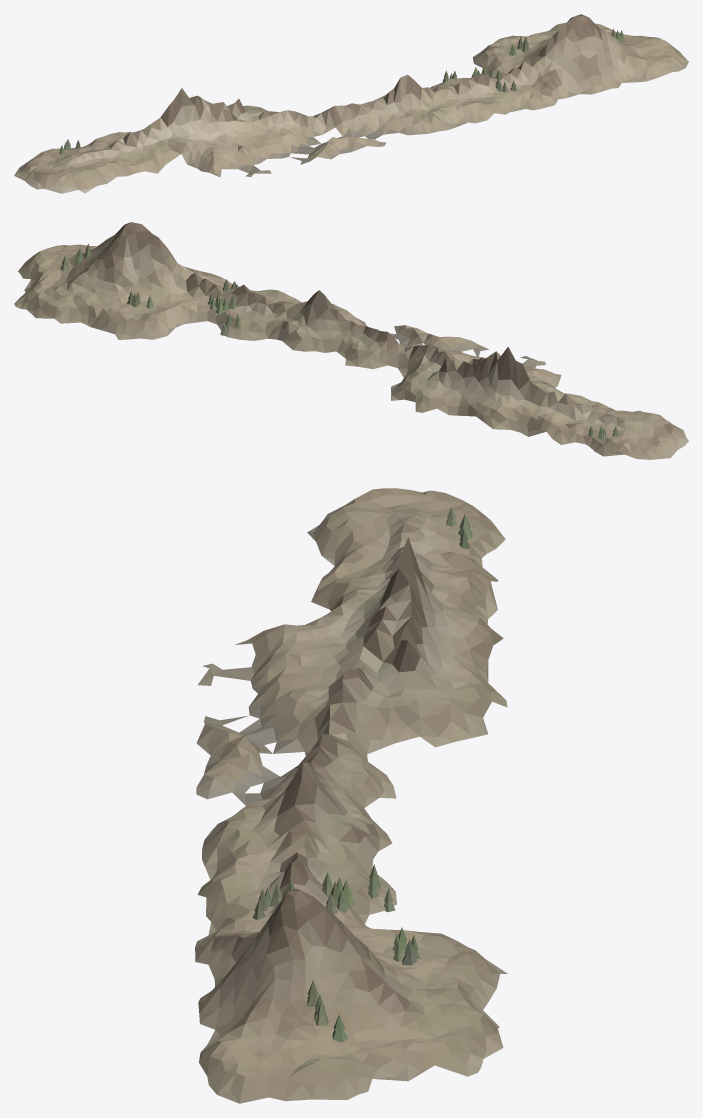
The model's file is range_yinshan.glb.
3 views of the same model, one above another, from view 1: azimuth 30°, elevation 25°; view 2: azimuth 150°, elevation 25°; view 3: azimuth 270°, elevation 25° (orthographic). The views are drawn at different scales.
Visible parts, largest first — view 1: range_yinshan, trees_yinshan; view 2: range_yinshan, trees_yinshan; view 3: range_yinshan, trees_yinshan.
Boxes of the visible parts, box(x1,y1,x2,y2) form: range_yinshan: box(14, 14, 688, 193); trees_yinshan: box(59, 28, 625, 154); range_yinshan: box(14, 222, 688, 459); trees_yinshan: box(60, 243, 618, 439); range_yinshan: box(195, 488, 507, 1103); trees_yinshan: box(252, 507, 472, 1042).
Size of the model in its own units: 342 by 30.96 by 74.09.
